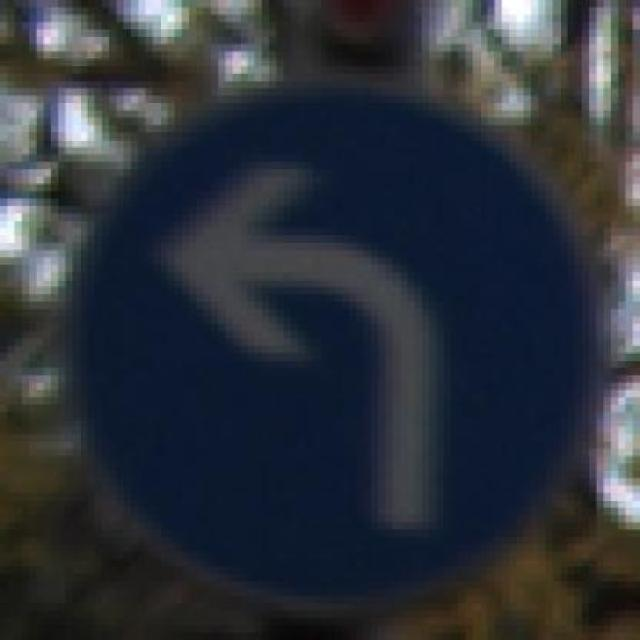Turn left ahead: (36, 73, 612, 604)
